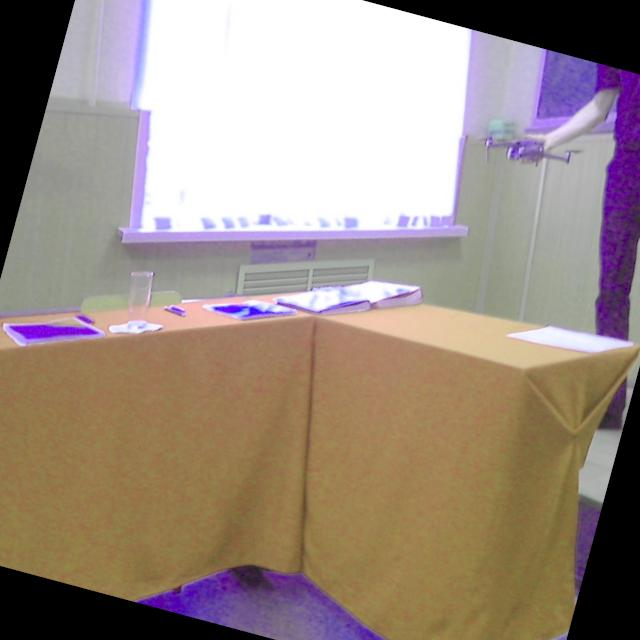drone: (461, 110, 592, 198)
